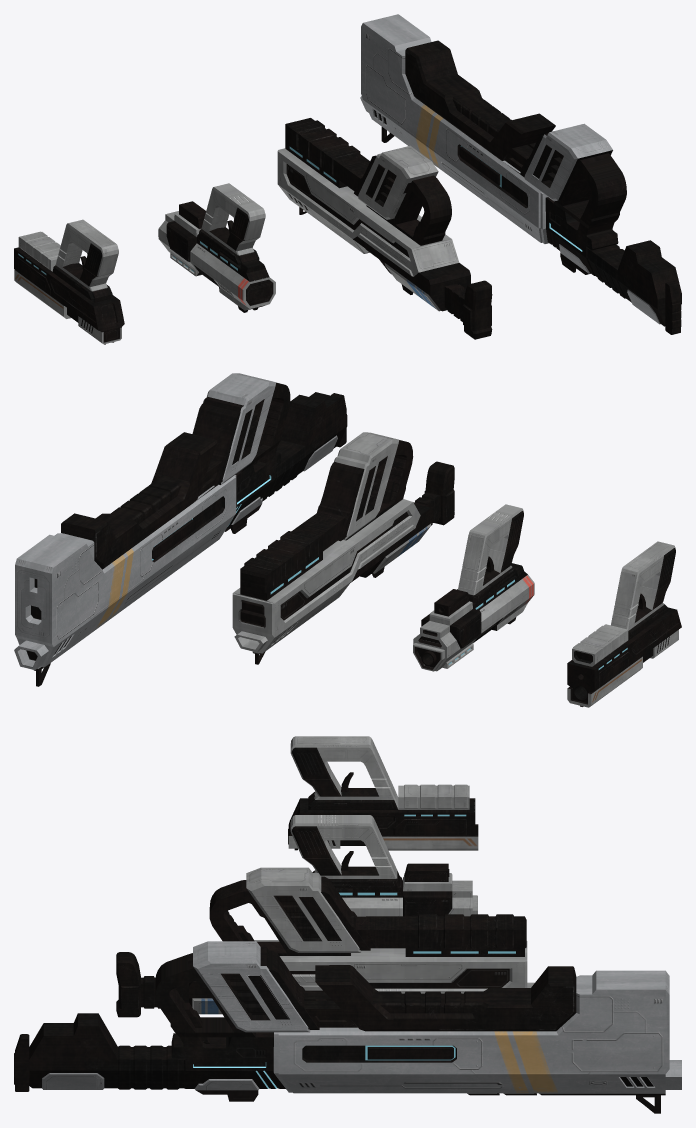
Rendered from sci-fi-weapons.fbx.
3 views of the same model, one above another, from view 1: azimuth 30°, elevation 25°; view 2: azimuth 150°, elevation 25°; view 3: azimuth 270°, elevation 25° (orthographic). The views are drawn at different scales.
Visible parts, largest first — view 1: rifle-sci-fi, sub-sci-fi, taser-sci-fi, pistol-sci-fi; view 2: rifle-sci-fi, sub-sci-fi, taser-sci-fi, pistol-sci-fi; view 3: rifle-sci-fi, sub-sci-fi, pistol-sci-fi, taser-sci-fi.
Boxes of the visible parts, x1=… form: rifle-sci-fi: x1=360, y1=14, x2=681, y2=334; sub-sci-fi: x1=277, y1=118, x2=492, y2=339; taser-sci-fi: x1=158, y1=183, x2=275, y2=312; pistol-sci-fi: x1=14, y1=219, x2=124, y2=344; rifle-sci-fi: x1=14, y1=373, x2=347, y2=686; sub-sci-fi: x1=232, y1=432, x2=454, y2=664; taser-sci-fi: x1=413, y1=504, x2=534, y2=671; pistol-sci-fi: x1=567, y1=541, x2=681, y2=707; rifle-sci-fi: x1=14, y1=941, x2=681, y2=1113; sub-sci-fi: x1=116, y1=867, x2=534, y2=1017; pistol-sci-fi: x1=288, y1=736, x2=478, y2=850; taser-sci-fi: x1=290, y1=815, x2=477, y2=916.
Bounding box in the file's own units: 3.22 × 0.96 × 3.59.
